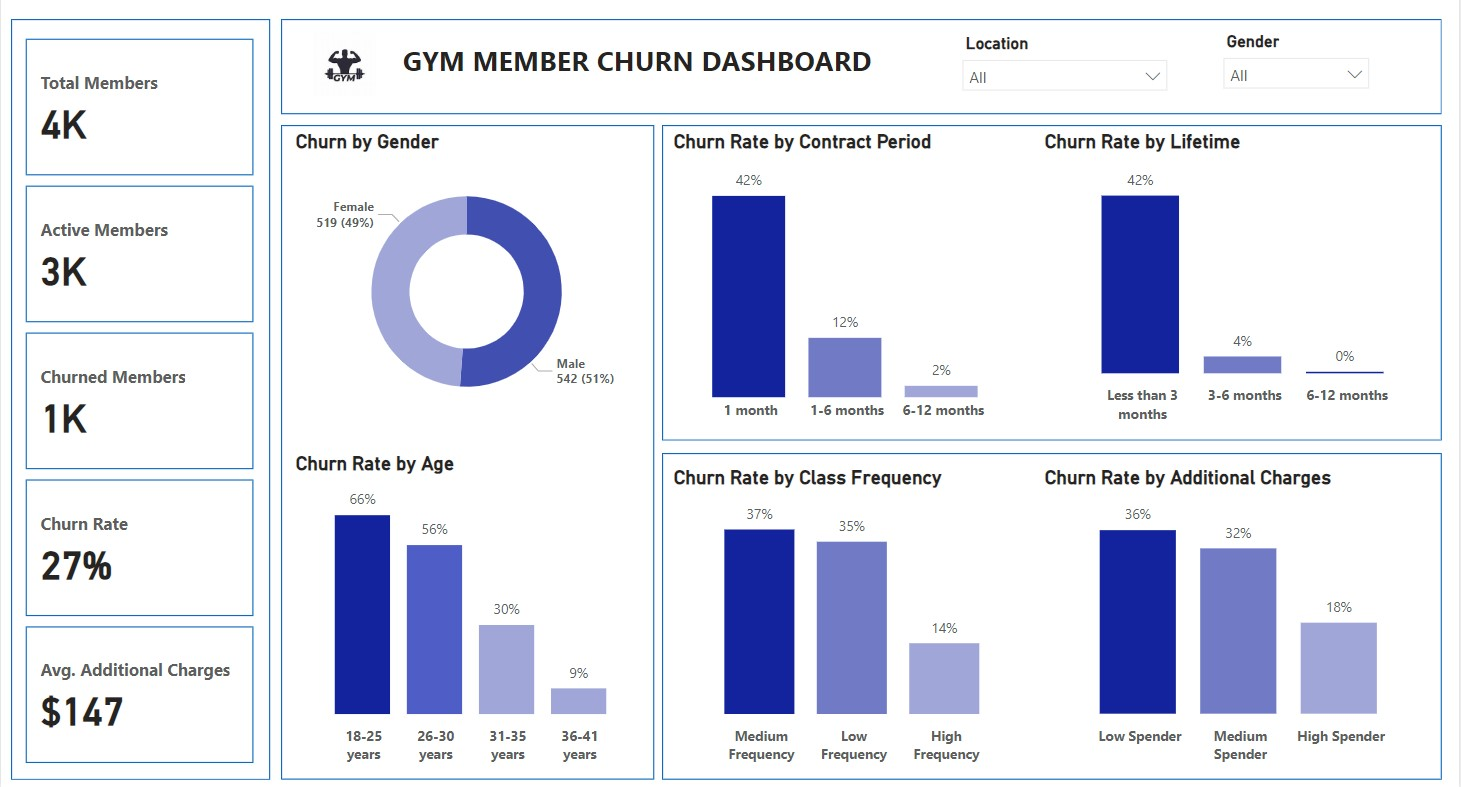

The page's visual inventory and layout, read from the dashboard file:
{"tool":"powerbi","page":{"name":"Main Dashboard","canvas":[1280,720],"ordinal":7},"visuals":[{"type":"shape","box":[8.8,41.8,227.6,668.2],"z":0},{"type":"shape","box":[246.1,135.2,327.8,574.8],"z":1000},{"type":"shape","box":[580.7,135.2,684.7,277.2],"z":2000},{"type":"shape","box":[580.7,423.1,684.7,286.9],"z":3000},{"type":"donutChart","title":"Churn by Gender","fields":{"Category":["gym_churn.gender-label"],"Y":["gym_churn.Churned Members"]},"box":[253.9,140,310.1,264.8],"z":4000},{"type":"columnChart","title":"Churn Rate by Age","fields":{"Category":["gym_churn.AgeCategory"],"Y":["gym_churn.Churn Rate"]},"box":[253.9,422.6,310.1,281.3],"z":5000},{"type":"shape","box":[246.1,41.8,1019.3,83.6],"z":6000},{"type":"cardVisual","fields":{"Data":["gym_churn.Total Members","gym_churn.Active Members","gym_churn.Churned Members","gym_churn.Churn Rate","gym_churn.Avg. Additional Charges"]},"box":[16.5,54.5,210.1,648.8],"z":7000},{"type":"textbox","box":[347.7,57.1,451.3,52.7],"z":8000},{"type":"clusteredColumnChart","title":"Churn Rate by Contract Period","fields":{"Y":["gym_churn.Churn Rate"],"Category":["gym_churn.ContractPeriodCategory"]},"box":[585.9,140,314.2,264.8],"z":9000},{"type":"columnChart","title":"Churn Rate by Lifetime","fields":{"Category":["gym_churn.LifetimeCategory"],"Y":["gym_churn.Churn Rate"]},"box":[911.2,140,347.2,264.8],"z":10000},{"type":"columnChart","title":"Churn Rate by Class Frequency","fields":{"Category":["gym_churn.ClassFrequencyCategory"],"Y":["gym_churn.Churn Rate"]},"box":[585.9,435,314.2,269],"z":11000},{"type":"columnChart","title":"Churn Rate by Additional Charges","fields":{"Category":["gym_churn.AdditionalChargesCategory"],"Y":["gym_churn.Churn Rate"]},"box":[911.4,434.6,340.7,268.7],"z":12000},{"type":"slicer","fields":{"Values":["gym_churn.LocationCategory"]},"box":[849.4,48,199,65.9],"z":13000},{"type":"slicer","fields":{"Values":["gym_churn.gender-label"]},"box":[1063.5,48,148.2,65.9],"z":14000},{"type":"image","box":[253.8,48.3,96.6,65.9],"z":15000}]}

Visuals, with their boxes on the page's 1280x720 design canvas (x1, y1, x2, y2). These are canvas units, not pixel positions in the 1461x787 screenshot, which may show the page scaled, cropped or inside an application window:
shape: pyautogui.locateOnScreen(9, 42, 236, 710)
shape: pyautogui.locateOnScreen(246, 135, 574, 710)
shape: pyautogui.locateOnScreen(581, 135, 1265, 412)
shape: pyautogui.locateOnScreen(581, 423, 1265, 710)
"Churn by Gender" donutChart: pyautogui.locateOnScreen(254, 140, 564, 405)
"Churn Rate by Age" columnChart: pyautogui.locateOnScreen(254, 423, 564, 704)
shape: pyautogui.locateOnScreen(246, 42, 1265, 125)
cardVisual - gym_churn.Total Members x gym_churn.Active Members: pyautogui.locateOnScreen(16, 54, 227, 703)
textbox: pyautogui.locateOnScreen(348, 57, 799, 110)
"Churn Rate by Contract Period" clusteredColumnChart: pyautogui.locateOnScreen(586, 140, 900, 405)
"Churn Rate by Lifetime" columnChart: pyautogui.locateOnScreen(911, 140, 1258, 405)
"Churn Rate by Class Frequency" columnChart: pyautogui.locateOnScreen(586, 435, 900, 704)
"Churn Rate by Additional Charges" columnChart: pyautogui.locateOnScreen(911, 435, 1252, 703)
slicer - gym_churn.LocationCategory: pyautogui.locateOnScreen(849, 48, 1048, 114)
slicer - gym_churn.gender-label: pyautogui.locateOnScreen(1064, 48, 1212, 114)
image: pyautogui.locateOnScreen(254, 48, 350, 114)
